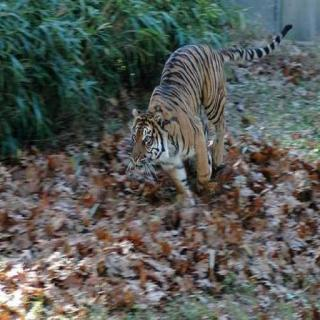Tiger: (95, 9, 303, 211)
